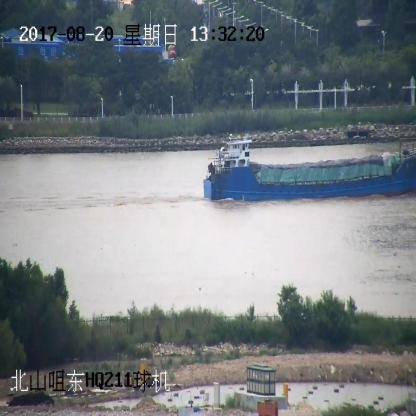Bulk Carrier: (203, 137, 416, 201)
